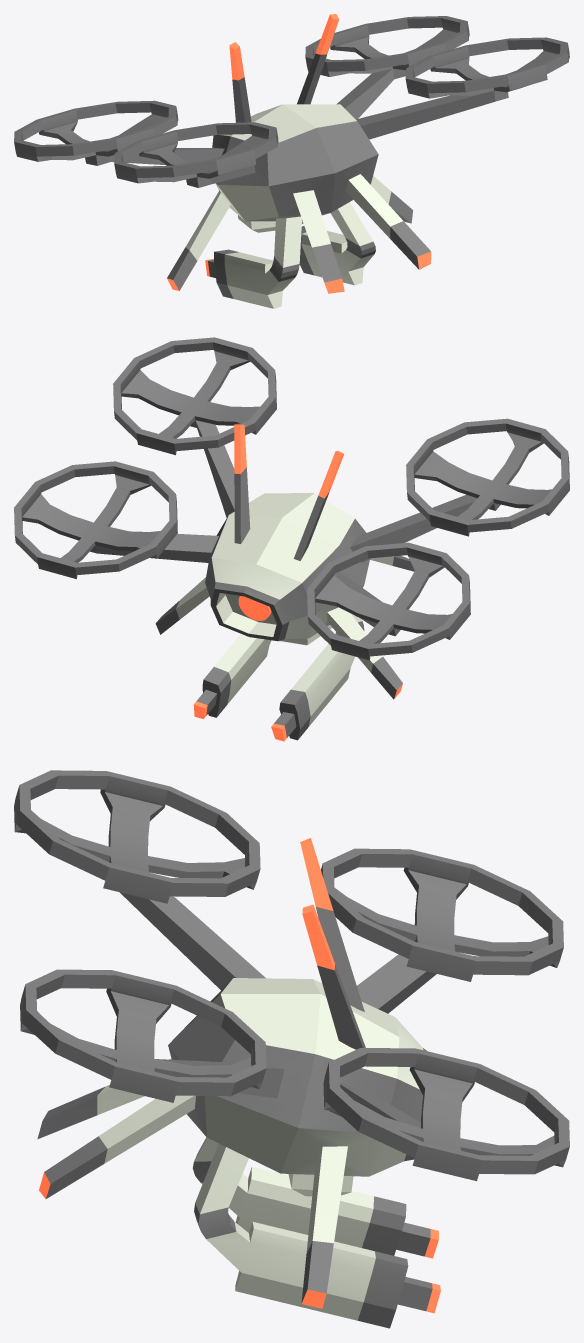
File: Drone_Animation.fbx
3 renders of one model, top to bottom at view 1: azimuth 30°, elevation 25°; view 2: azimuth 150°, elevation 25°; view 3: azimuth 270°, elevation 25°, orthographic. The views are drawn at different scales.
Parts seen in each view (by area): view 1: Drone; view 2: Drone; view 3: Drone.
Part boxes in pixels (left/top/right/bottom): Drone: left=14, top=14, right=569, bottom=308; Drone: left=14, top=337, right=569, bottom=741; Drone: left=14, top=770, right=569, bottom=1328.
Size of the model in its own units: 277 by 170 by 202.
